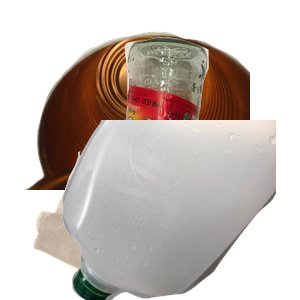glass: (112, 35, 300, 215)
metal: (21, 29, 261, 209)
plastic: (60, 120, 300, 300)
trash: (31, 149, 268, 300)
